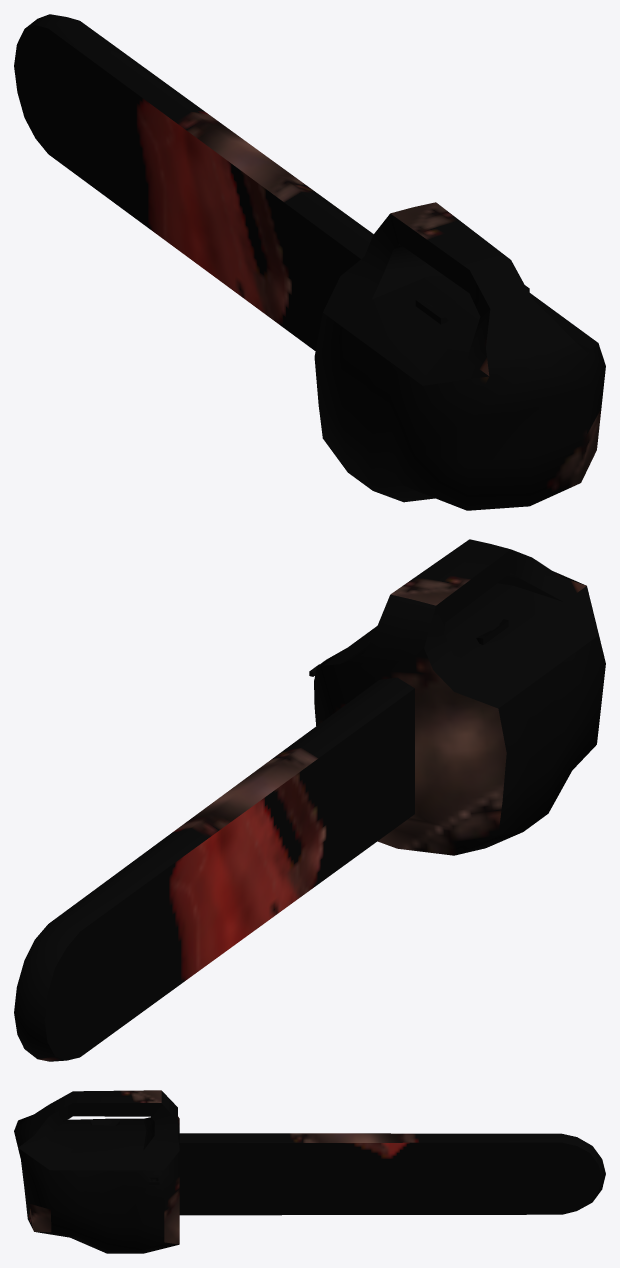
Rendered from SexyChainsaw.fbx.
3 views of the same model, one above another, from view 1: azimuth 30°, elevation 25°; view 2: azimuth 150°, elevation 25°; view 3: azimuth 270°, elevation 25° (orthographic). The views are drawn at different scales.
Parts seen in each view (by area): view 1: ChainSaw; view 2: ChainSaw; view 3: ChainSaw.
Part boxes in pixels (x1=…): ChainSaw: x1=14, y1=14, x2=605, y2=510; ChainSaw: x1=14, y1=539, x2=605, y2=1061; ChainSaw: x1=14, y1=1090, x2=605, y2=1253.
Bounding box in the file's own units: 0.6528 × 0.7849 × 2.9.
